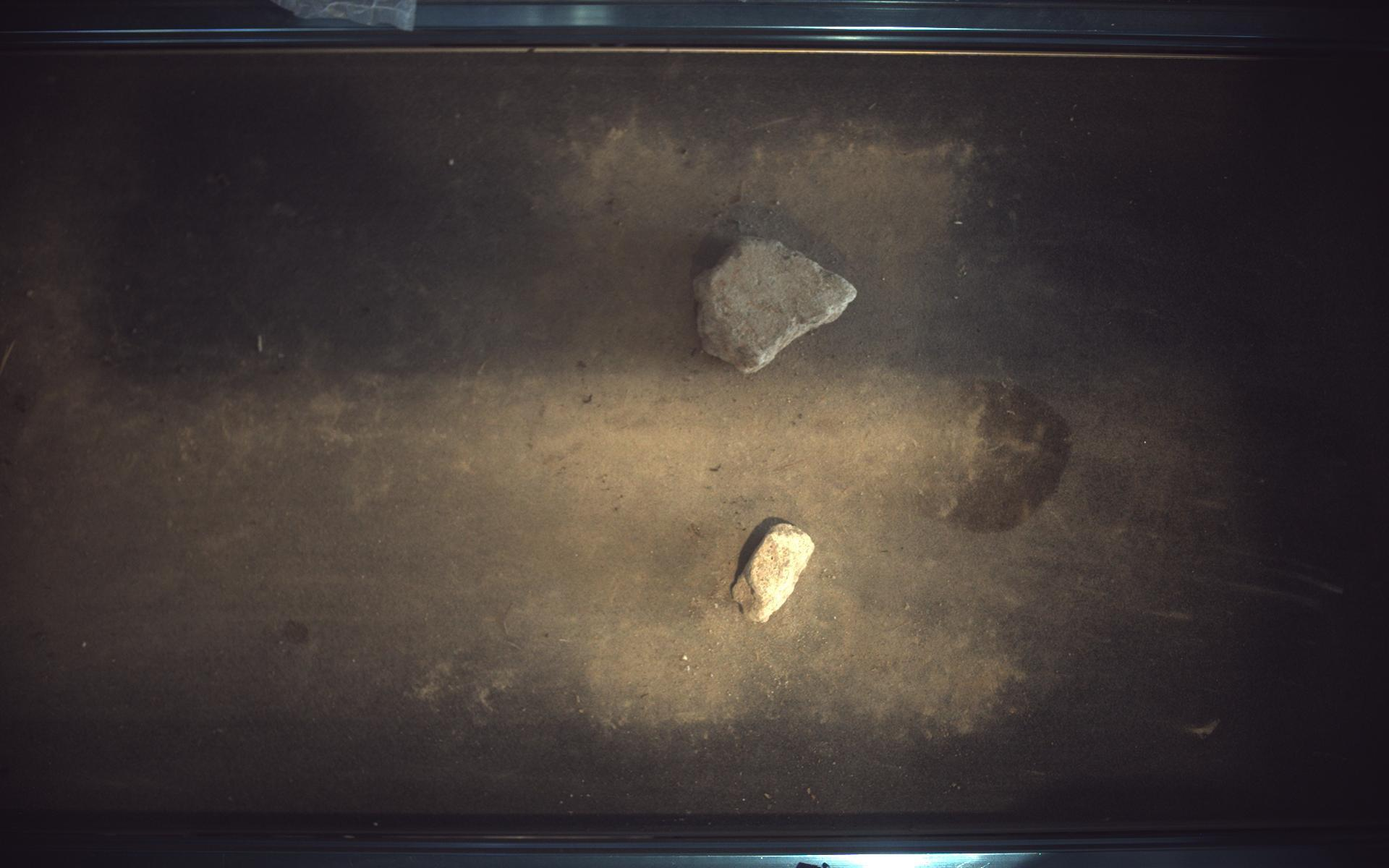stone: (694, 237, 858, 373), (734, 524, 816, 624)
